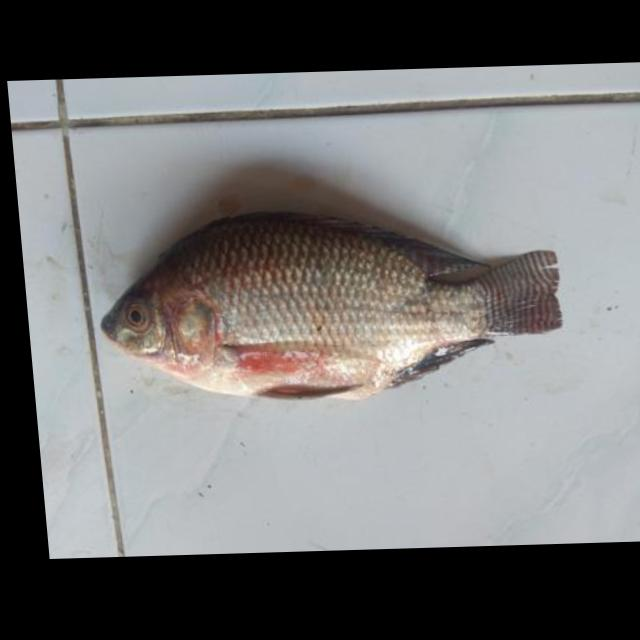Tilapia: (89, 202, 571, 406)
